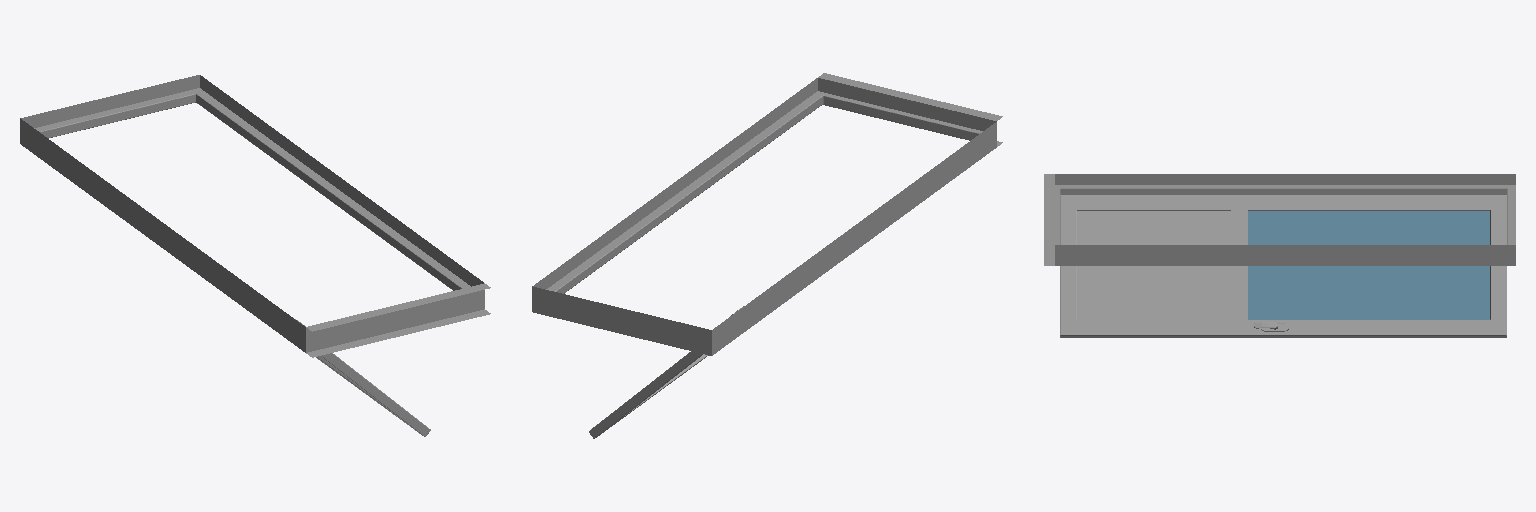
The robot description file, URDF, robot "246":
<robot name="246">


	<link name="0:virtual">
		<visual>
			<origin xyz="0.0 0.0 0.0" rpy="0 0 0"/>
			<geometry>
				<cylinder length="0" radius="0"/>
			</geometry>
		</visual>
	</link>


	<link name="1:static">
		<visual>
			<origin xyz="-0.0 -0.0 -0.0" rpy="0 0 0"/>
			<geometry>
				<mesh filename="../raw_data/246/part_meshes/1.dae" />
			</geometry>
		</visual>
	</link>


	<link name="2:door 1">
		<visual>
			<origin xyz="0.3747584473720997 -1.28699999777072 0.09248346539551416" rpy="0 0 0"/>
			<geometry>
				<mesh filename="../raw_data/246/part_meshes/2.dae" />
			</geometry>
		</visual>
	</link>


	<joint name="0:virtual::1:static" type="fixed">
		<parent link="0:virtual"/>
		<child link="1:static"/>
		<origin xyz="0.0 0.0 0.0" rpy="0 0 0"/>
	</joint>


	<joint name="0:virtual::2:door 1_rotation" type="revolute">
		<parent link="0:virtual"/>
		<child link="2:door 1"/>
		<origin xyz="-0.3747584473720997 1.28699999777072 -0.09248346539551416" rpy="0 0 0"/>
		<limit lower="-0.7696902001294993" upper="0.5026548245743669" effort="10" velocity="3"/>
		<axis xyz="0.0 1.0 0.0"/>
	</joint>


</robot>

--- Render facts (derived) ---
The picture shows the robot from 3 angles, left to right: view 1: azimuth 30°, elevation 25°; view 2: azimuth 150°, elevation 25°; view 3: azimuth 270°, elevation 25°; orthographic projection.
Model 246 with 3 links and 2 joints (1 revolute, 1 fixed), rooted at 0:virtual, posed all joints at 0.
Visible links, largest first — view 1: 1:static, 2:door 1; view 2: 1:static, 2:door 1; view 3: 2:door 1, 1:static.
Link boxes in pixels (x1,y1,x2,y2): 1:static: [20, 75, 490, 357]; 2:door 1: [295, 319, 430, 436]; 1:static: [532, 73, 1002, 355]; 2:door 1: [589, 306, 743, 438]; 2:door 1: [1060, 195, 1506, 337]; 1:static: [1044, 174, 1515, 265].
Bounding box of the posed robot: 0.8 × 2.25 × 0.61 m (x, y, z).
2 mesh visuals loaded from 2 distinct referenced files (2 Collada DAE).